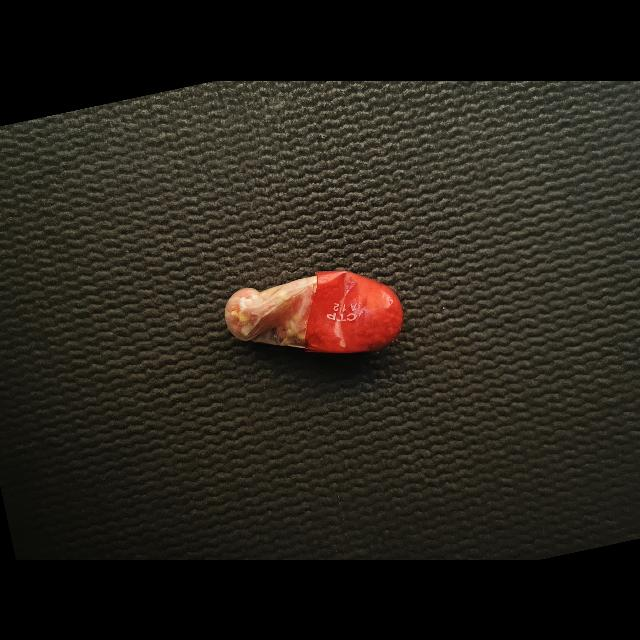Defective Capsule: (225, 270, 402, 352)
